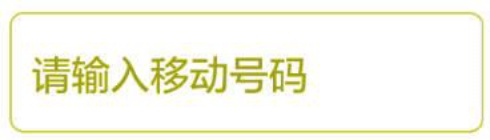EditText: (1, 1, 489, 139)
